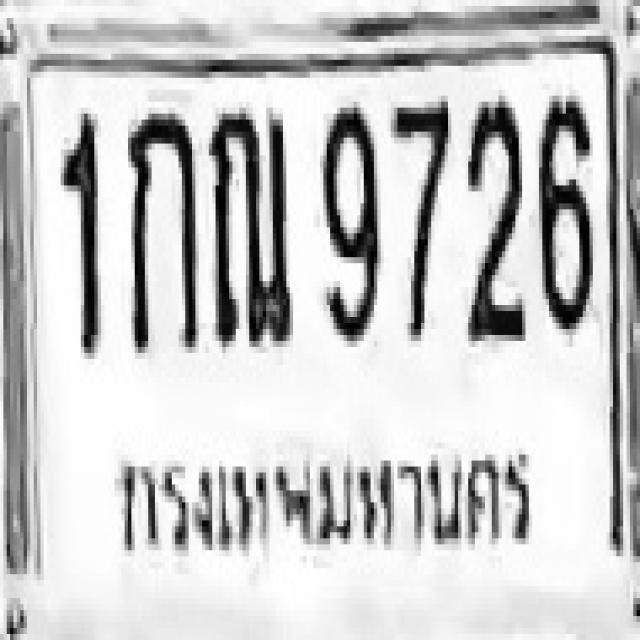1: (59, 108, 96, 353)
10GorGai: (125, 108, 195, 347)
2: (463, 96, 524, 341)
28NorNen: (206, 105, 290, 344)
6: (537, 93, 591, 332)
7: (387, 96, 448, 335)
9: (320, 102, 377, 335)
Bangkok: (108, 428, 547, 566)
